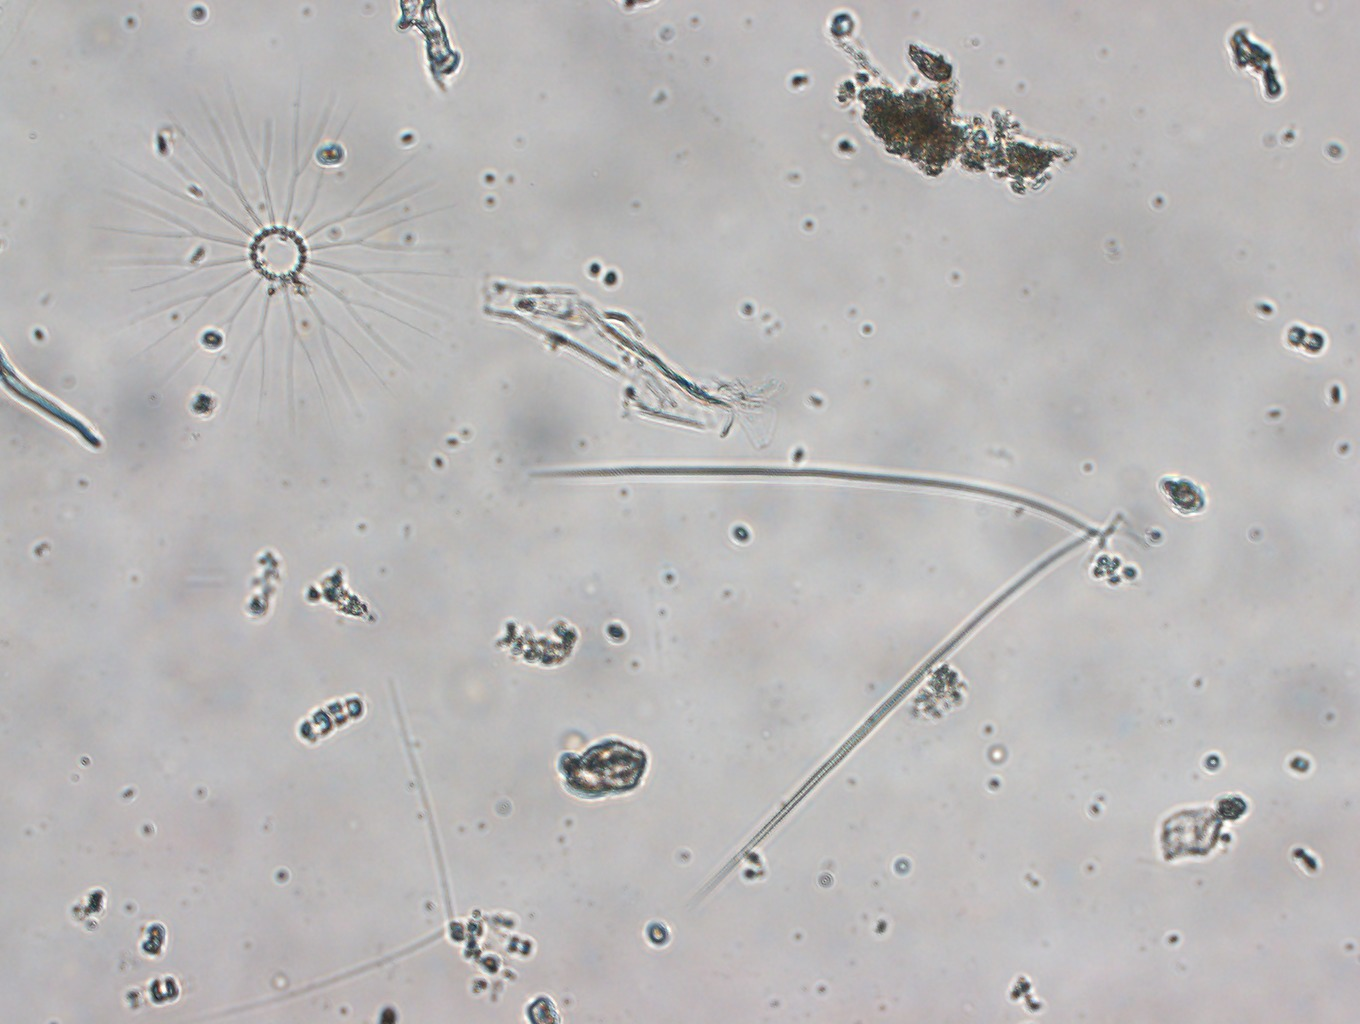bacteriastrum: (91, 84, 461, 433)
